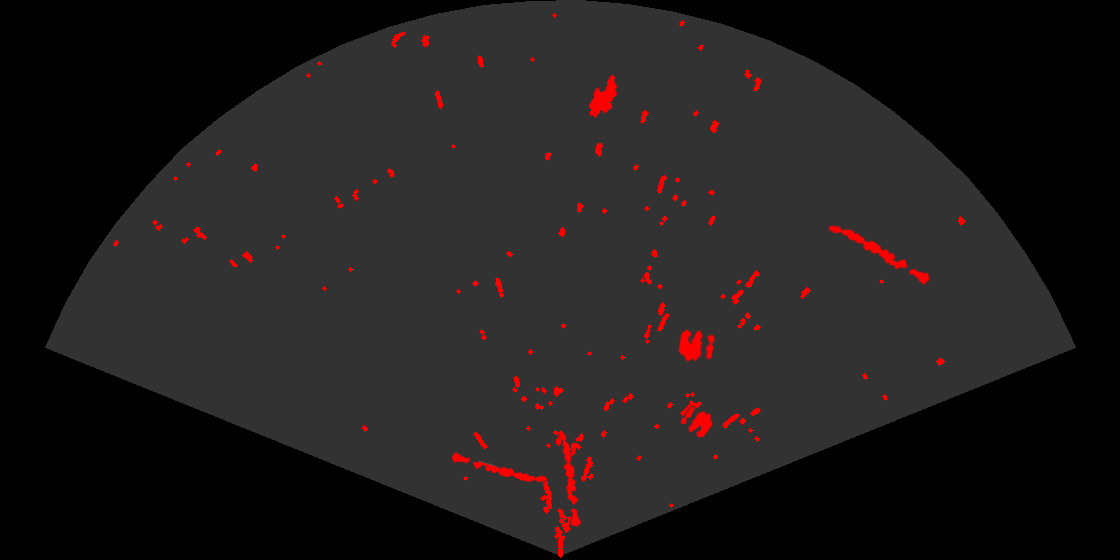AUV: (587, 73, 619, 119)
ball: (677, 328, 716, 363), (679, 405, 714, 439)
chain: (827, 224, 931, 286), (450, 451, 549, 484), (557, 429, 583, 528)
